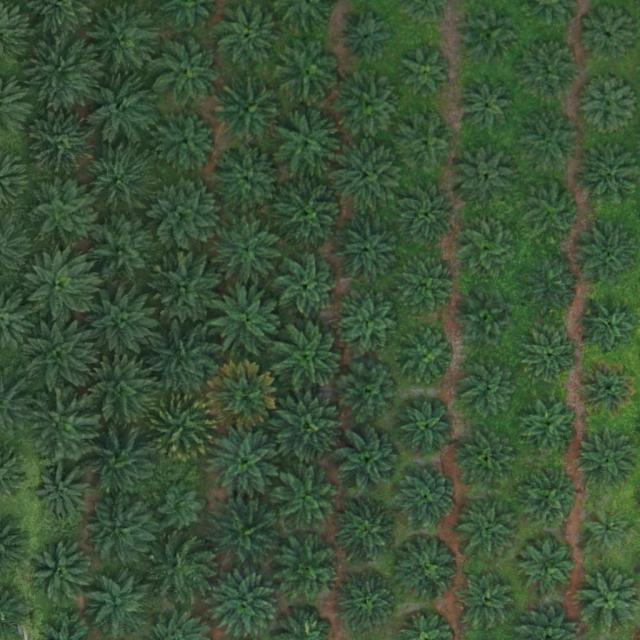Healthy: (89, 4, 160, 75), (87, 75, 158, 146), (151, 179, 222, 250), (152, 324, 223, 395), (209, 425, 280, 496), (207, 499, 278, 570), (29, 110, 100, 180), (26, 323, 96, 394), (90, 286, 160, 357), (153, 250, 223, 321), (218, 79, 288, 150), (214, 145, 284, 216), (212, 286, 282, 357), (276, 182, 346, 253), (277, 322, 347, 393), (333, 141, 403, 212), (335, 216, 405, 287), (85, 429, 155, 500), (87, 493, 157, 564), (28, 389, 98, 460), (29, 37, 99, 107), (26, 178, 96, 248), (26, 254, 96, 324), (84, 145, 154, 215), (89, 217, 159, 287), (154, 38, 224, 108), (214, 220, 284, 290), (272, 109, 342, 179), (272, 393, 342, 463), (273, 467, 343, 537), (83, 358, 153, 428), (394, 112, 457, 175), (459, 4, 522, 67), (455, 142, 518, 205), (519, 469, 582, 532), (457, 498, 520, 561), (337, 429, 400, 492), (337, 571, 400, 634), (158, 111, 220, 174), (277, 258, 339, 321), (339, 76, 402, 138), (397, 254, 459, 317), (519, 37, 581, 100), (522, 113, 584, 176), (524, 180, 586, 243), (523, 255, 585, 318), (578, 144, 640, 207), (519, 396, 581, 459), (460, 356, 522, 419), (458, 429, 520, 492), (457, 571, 519, 634), (395, 467, 457, 530), (398, 538, 460, 601), (339, 361, 401, 424), (336, 502, 398, 565), (280, 536, 342, 599), (152, 539, 215, 601), (87, 574, 149, 637), (30, 542, 92, 605), (278, 39, 340, 101), (578, 430, 640, 492), (583, 9, 638, 65), (342, 298, 397, 353), (461, 81, 516, 136), (460, 219, 515, 274), (462, 294, 517, 349), (584, 302, 639, 357), (524, 329, 579, 384), (399, 331, 454, 386), (402, 188, 456, 243), (521, 539, 575, 594), (401, 403, 455, 458), (36, 466, 90, 521), (346, 15, 393, 62), (404, 48, 451, 95), (158, 483, 205, 530)
Small: (586, 510, 633, 557)
Yellow: (208, 362, 278, 433), (147, 393, 217, 463), (582, 363, 636, 418)
